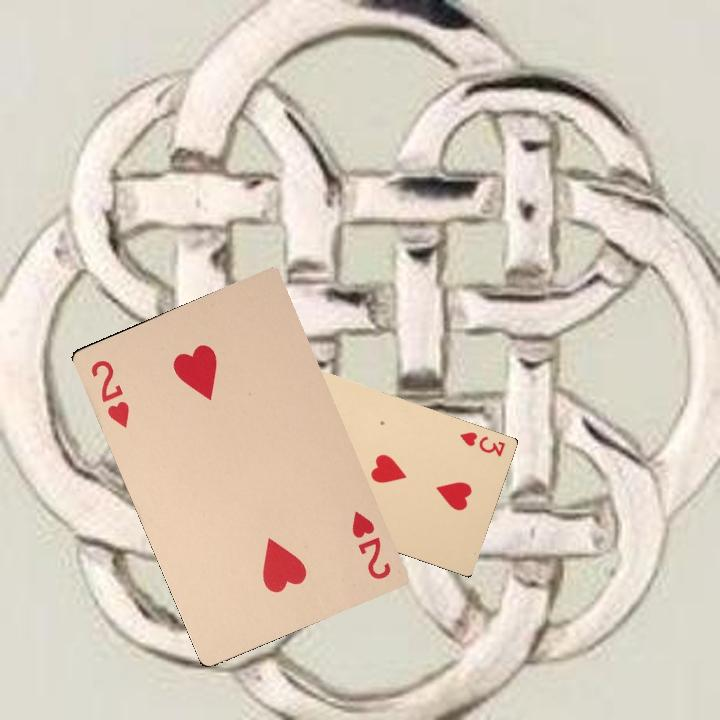2h: (347, 506, 394, 582), (86, 355, 132, 430)
3h: (456, 428, 508, 459)
